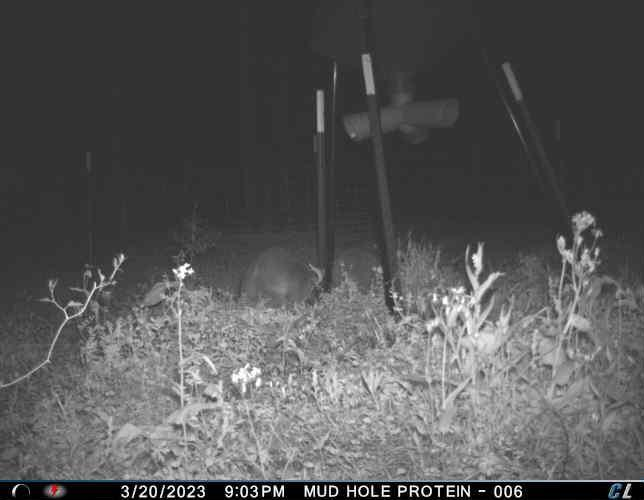Raccoon: (237, 244, 316, 308), (331, 241, 386, 294)
